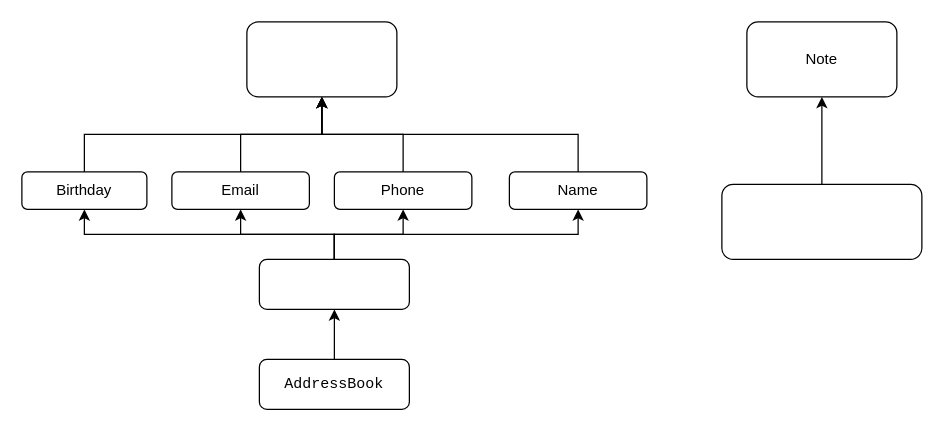
This 944x431 diagram has some shape labels left out. Each missing label, with the box of its shape:
Field: (246, 21, 397, 97)
PersonalNoteAssistant: (721, 183, 922, 259)
Record: (258, 258, 409, 309)
